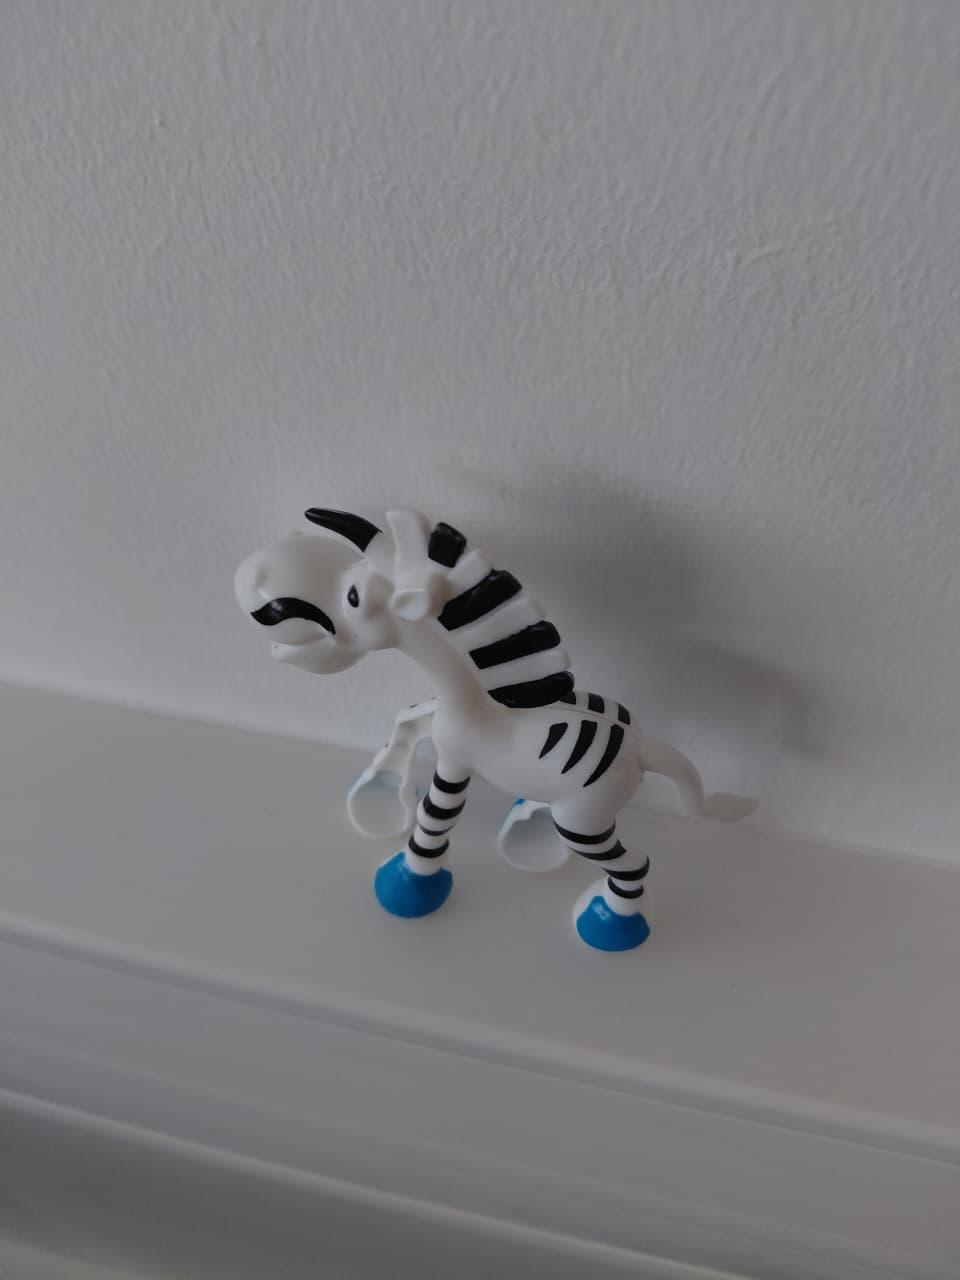zebra: (190, 451, 781, 1064)
